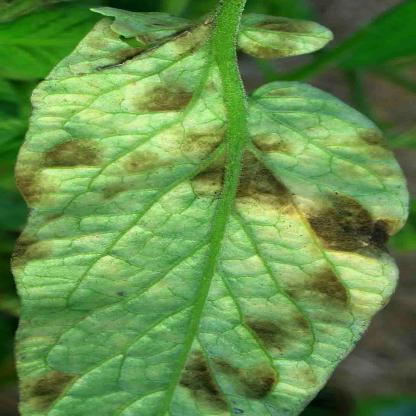tomato mold leaf: (11, 2, 412, 416)
